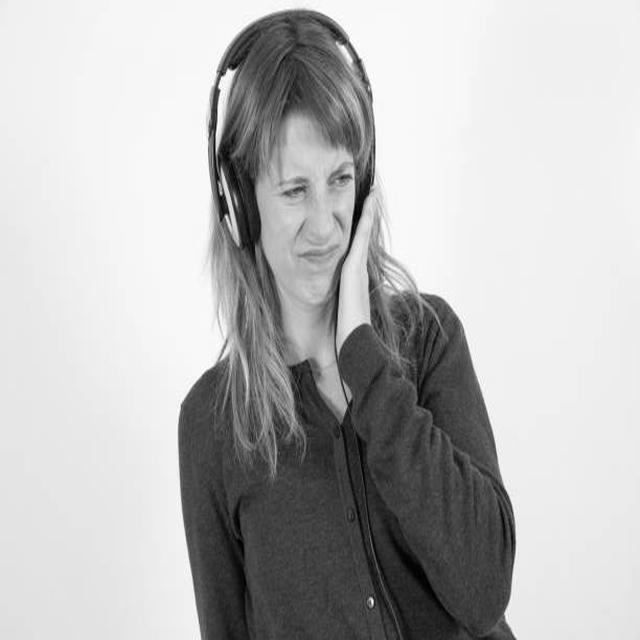Disgust: (253, 117, 356, 305)
